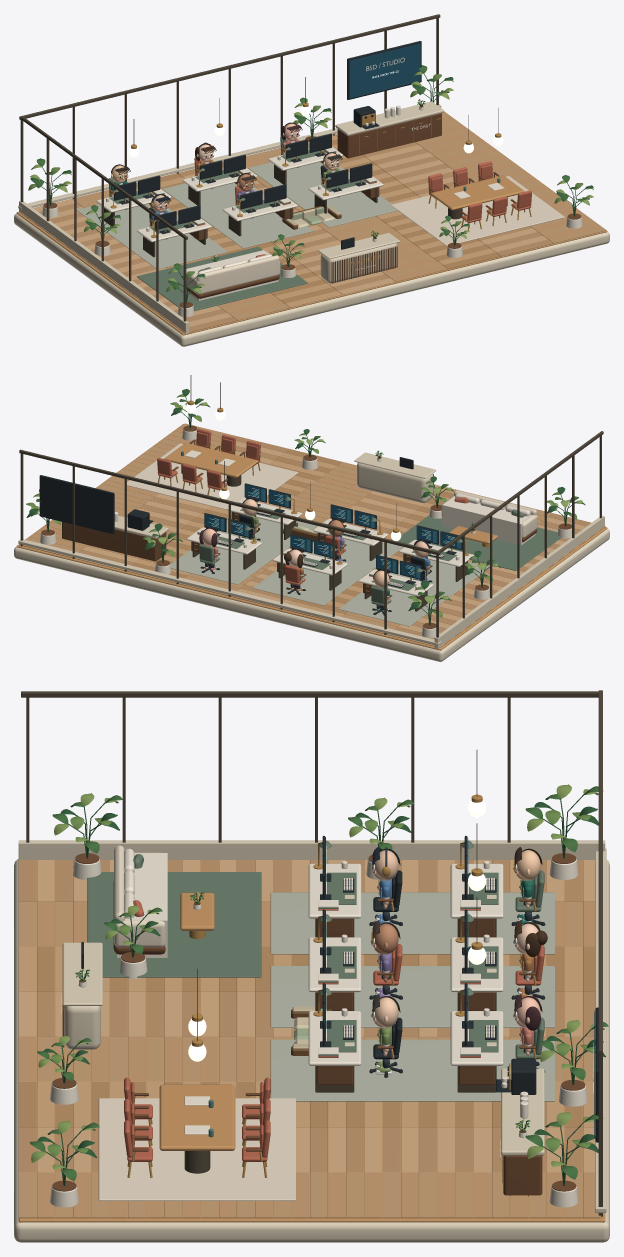
Rendered from bsd-atelier.glb.
3 renders of one model, top to bottom at view 1: azimuth 30°, elevation 25°; view 2: azimuth 150°, elevation 25°; view 3: azimuth 270°, elevation 25°, orthographic. The views are drawn at different scales.
Visible parts, largest first — view 1: ENV_plinth, PRP_meeting_rug, PRP_work_rug.001, PRP_work_rug.002, PRP_work_rug, PRP_wall_display_face, PRP_lounge_rug, PRP_bar_cabinet, ENV_left_wall, ENV_floor, ENV_window_header, PRP_sofa_back (+15 smaller); view 2: ENV_plinth, PRP_meeting_rug, PRP_wall_display, PRP_work_rug.001, PRP_work_rug, PRP_work_rug.002, ENV_window_sill, PRP_lounge_rug, ENV_left_wall, ENV_floor, PROXY_sofa, PRP_bar_cabinet (+13 smaller); view 3: ENV_plinth, PRP_meeting_rug, PRP_lounge_rug, ENV_left_wall, PRP_work_rug.002, PRP_work_rug, PRP_work_rug.001, ENV_floor, PRP_meeting_top, ENV_left_header, PRP_bar_marble, PRP_reception_top (+74 smaller).
Boxes of the visible parts, x1=… form: ENV_plinth: x1=14, y1=213, x2=609, y2=346; PRP_meeting_rug: x1=391, y1=176, x2=564, y2=246; PRP_work_rug.001: x1=162, y1=183, x2=313, y2=248; PRP_work_rug.002: x1=248, y1=162, x2=397, y2=227; PRP_work_rug: x1=76, y1=204, x2=227, y2=268; PRP_wall_display_face: x1=349, y1=43, x2=420, y2=98; PRP_lounge_rug: x1=137, y1=246, x2=307, y2=311; PRP_bar_cabinet: x1=337, y1=113, x2=441, y2=158; ENV_left_wall: x1=19, y1=201, x2=189, y2=333; ENV_floor: x1=16, y1=111, x2=607, y2=335; ENV_window_header: x1=19, y1=14, x2=440, y2=119; PRP_sofa_back: x1=196, y1=255, x2=279, y2=294; ENV_plinth: x1=14, y1=528, x2=609, y2=661; PRP_meeting_rug: x1=124, y1=443, x2=298, y2=509; PRP_wall_display: x1=39, y1=475, x2=114, y2=534; PRP_work_rug.001: x1=253, y1=538, x2=403, y2=605; PRP_work_rug: x1=338, y1=559, x2=489, y2=626; PRP_work_rug.002: x1=170, y1=517, x2=317, y2=584; ENV_window_sill: x1=18, y1=539, x2=441, y2=645; PRP_lounge_rug: x1=397, y1=515, x2=561, y2=570; ENV_left_wall: x1=434, y1=515, x2=604, y2=648; ENV_floor: x1=16, y1=424, x2=607, y2=650; PROXY_sofa: x1=442, y1=497, x2=535, y2=545; PRP_bar_cabinet: x1=62, y1=522, x2=166, y2=561; ENV_plinth: x1=14, y1=859, x2=609, y2=1242; PRP_meeting_rug: x1=98, y1=1098, x2=295, y2=1200; PRP_lounge_rug: x1=87, y1=872, x2=261, y2=977; ENV_left_wall: x1=18, y1=840, x2=605, y2=861; PRP_work_rug.002: x1=270, y1=1039, x2=554, y2=1101; PRP_work_rug: x1=270, y1=892, x2=554, y2=954; PRP_work_rug.001: x1=270, y1=966, x2=554, y2=1027; ENV_floor: x1=18, y1=861, x2=605, y2=1222; PRP_meeting_top: x1=159, y1=1084, x2=235, y2=1150; ENV_left_header: x1=21, y1=691, x2=602, y2=697; PRP_bar_marble: x1=501, y1=1068, x2=544, y2=1155; PRP_reception_top: x1=62, y1=942, x2=102, y2=1005.
Size of the model in its own units: 19 by 4.78 by 13.
